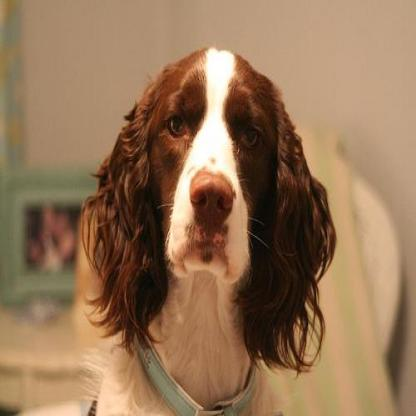English_springer: (69, 41, 404, 412)
